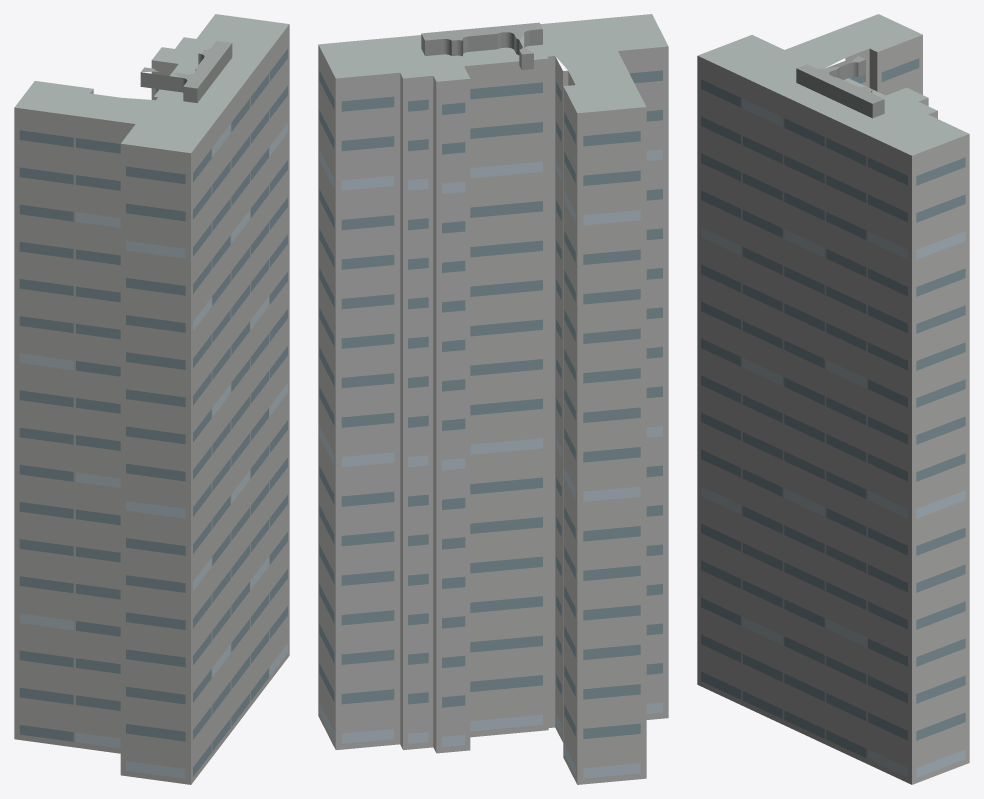
File: fallback-gaepo-xi-presidence-426.glb
The picture shows the model from 3 angles, left to right: view 1: azimuth 30°, elevation 25°; view 2: azimuth 150°, elevation 25°; view 3: azimuth 270°, elevation 25°; orthographic projection. The views are drawn at different scales.
Parts seen in each view (by area): view 1: fallback-gaepo-xi-presidence-426; view 2: fallback-gaepo-xi-presidence-426; view 3: fallback-gaepo-xi-presidence-426.
Boxes of the visible parts, x1=… form: fallback-gaepo-xi-presidence-426: x1=14, y1=14, x2=289, y2=784; fallback-gaepo-xi-presidence-426: x1=318, y1=14, x2=668, y2=784; fallback-gaepo-xi-presidence-426: x1=697, y1=14, x2=969, y2=784.
Bounding box in the file's own units: 50.15 × 106 × 40.65.
